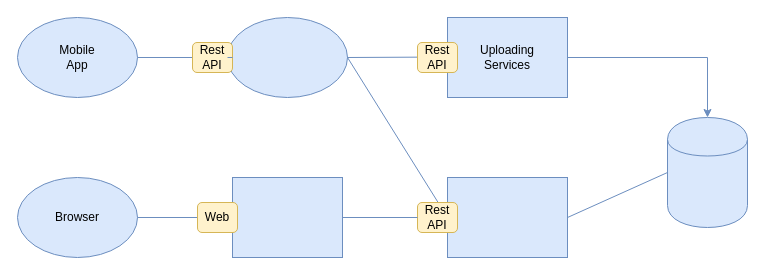
The diagram is 765 pixels wide and 275 high, and some of its shapes have lost their labels. The shapes that lost their labels are listed below. From the top down, each one's centre as x and y in pixels, then its label:
the point at 287,57: API Gateway
the point at 707,172: DB
the point at 287,217: Storefront WebApp
the point at 507,217: Analytical Services (ML)
